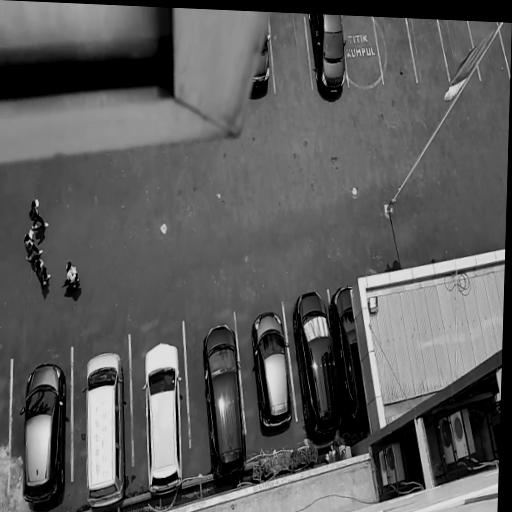Car: (194, 314, 257, 483), (286, 287, 348, 451), (74, 346, 132, 512), (136, 335, 193, 499), (15, 350, 72, 505), (322, 277, 372, 441), (243, 305, 301, 440), (305, 14, 351, 98), (247, 11, 273, 97)
Space Available: (269, 14, 313, 92), (342, 15, 384, 86), (375, 17, 419, 84), (407, 18, 452, 83), (438, 19, 480, 84), (468, 21, 510, 82), (0, 358, 11, 498)
